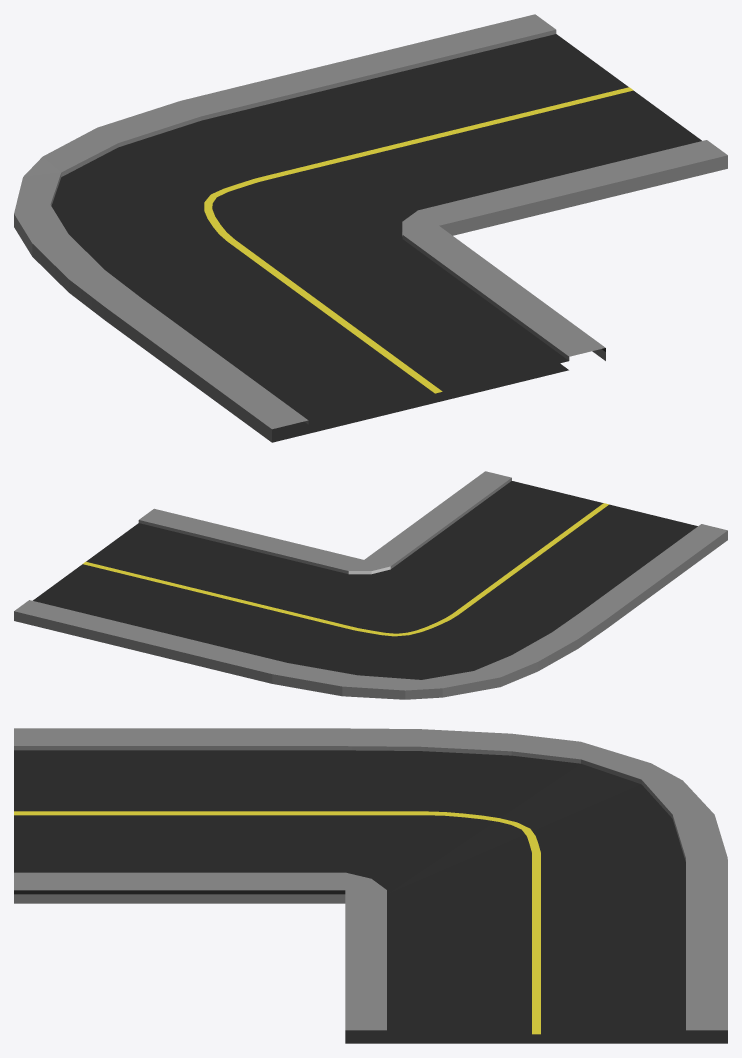
The model's file is road5.fbx.
3 renders of one model, top to bottom at view 1: azimuth 30°, elevation 25°; view 2: azimuth 150°, elevation 25°; view 3: azimuth 270°, elevation 25°, orthographic. The views are drawn at different scales.
Visible parts, largest first — view 1: Roads.004; view 2: Roads.004; view 3: Roads.004.
Part boxes in pixels (x1,y1,x2,y2): Roads.004: (14, 14, 727, 442); Roads.004: (14, 471, 727, 699); Roads.004: (14, 728, 727, 1043).
Size of the model in its own units: 2152 by 44.38 by 2152.
